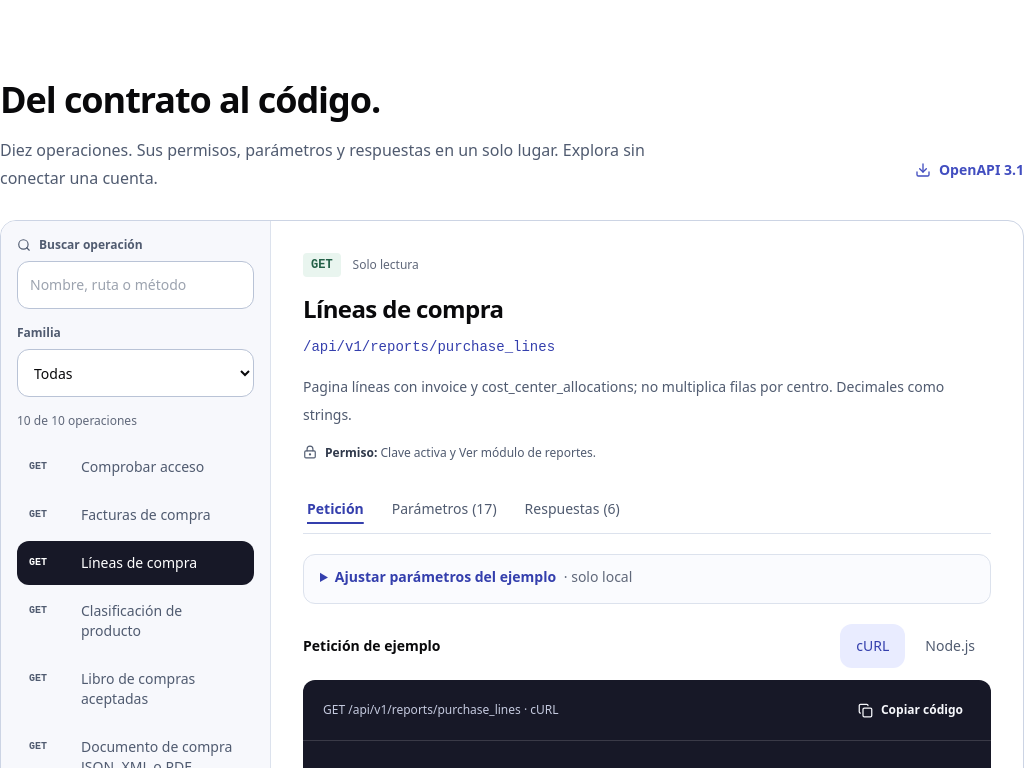
Test case: API workspace controls › shows types, defaults and accepted values for searched optional parameters
Click the button "Parámetros(17)" at (444, 509), box [388,485,501,533]
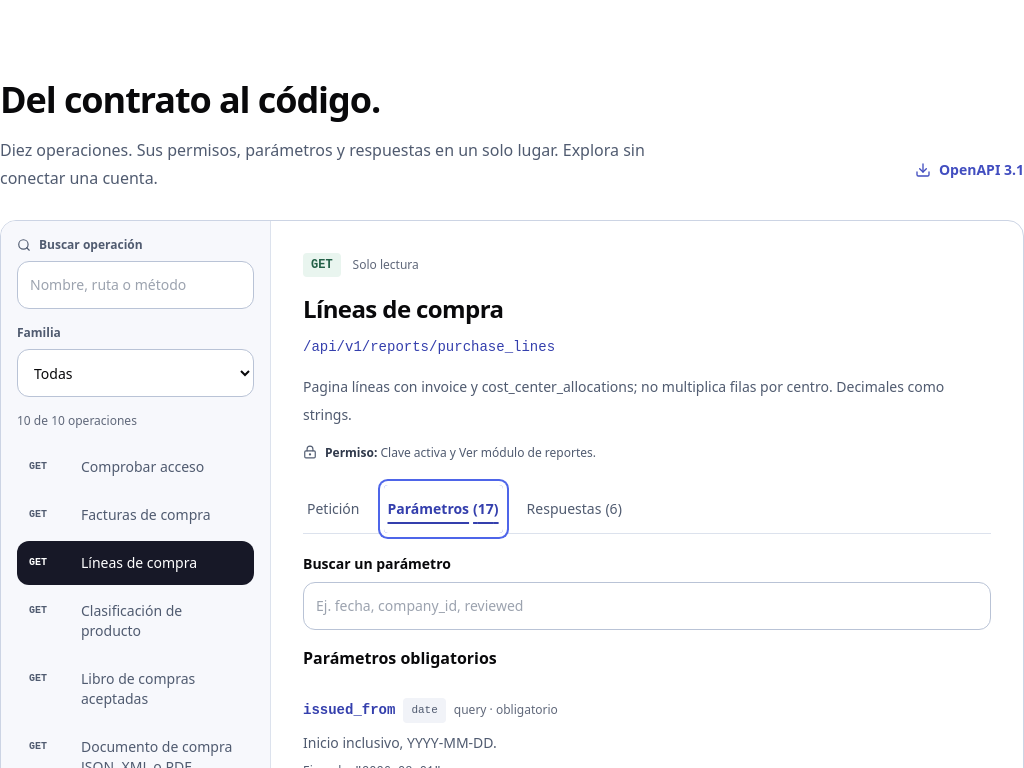
Type "reviewed" into the search field labelled "Buscar un parámetro" at (647, 606), box [303,582,991,630]
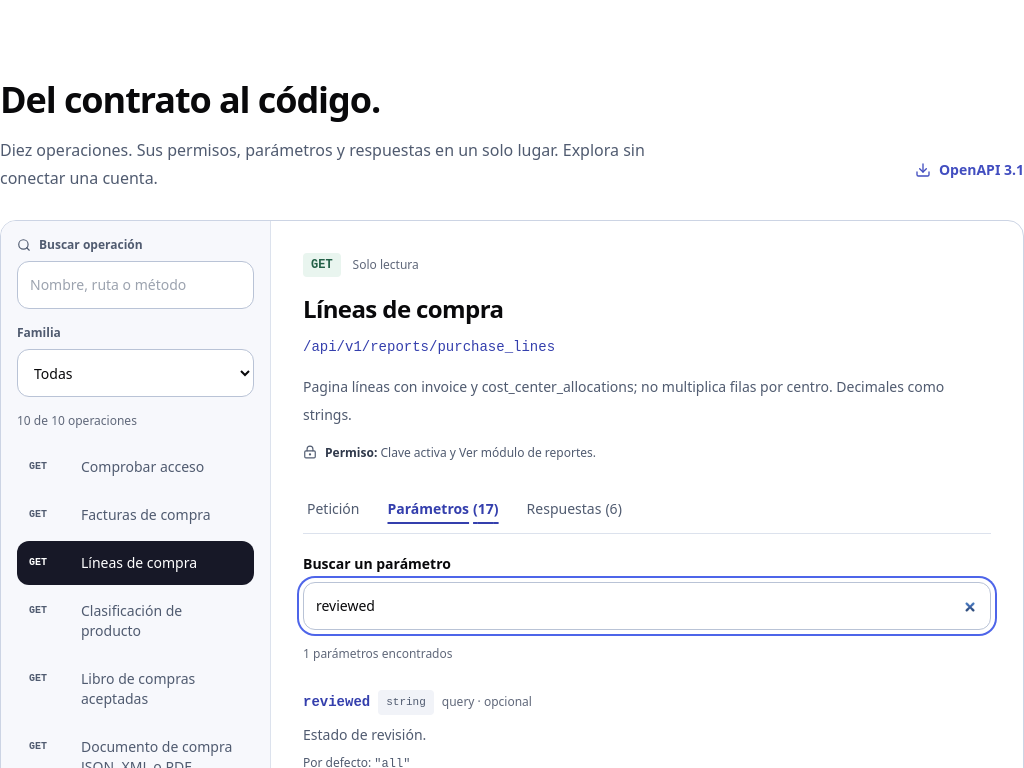
Expected: the text "1 parámetros encontrados" is shown, [303,645,452,662]
Replace the text in the search field labelled "Buscar un parámetro" with "no-existe" at (647, 606), box [303,582,991,630]
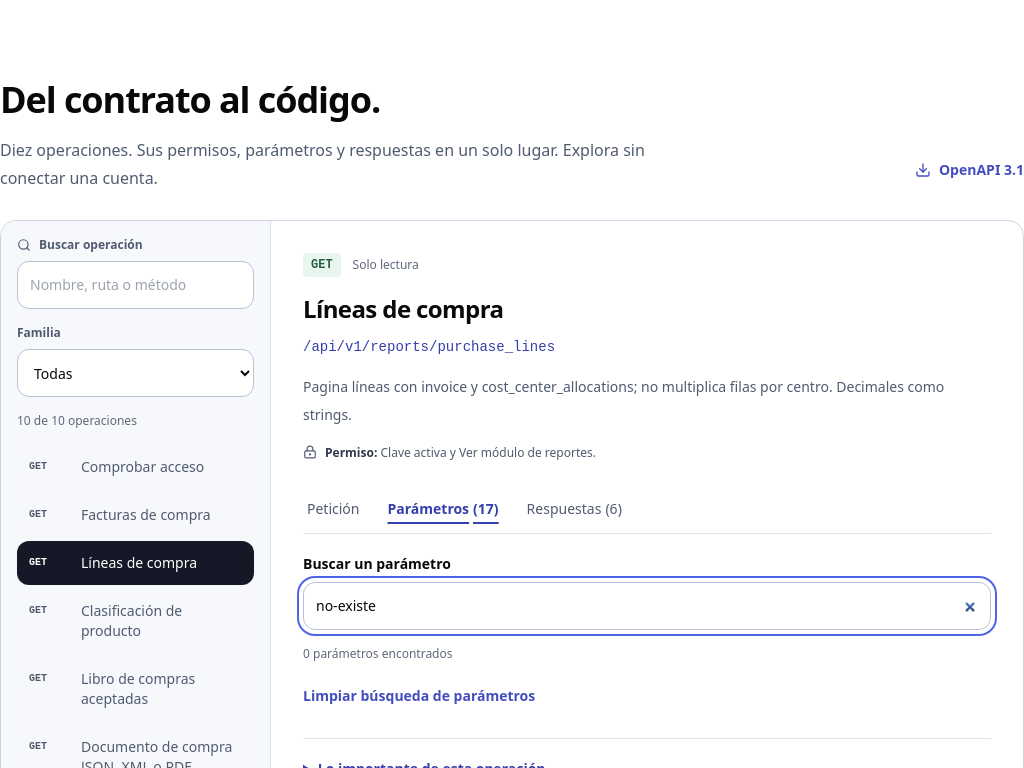
Click the button "Limpiar búsqueda de parámetros" at (419, 696), box [303,674,535,718]
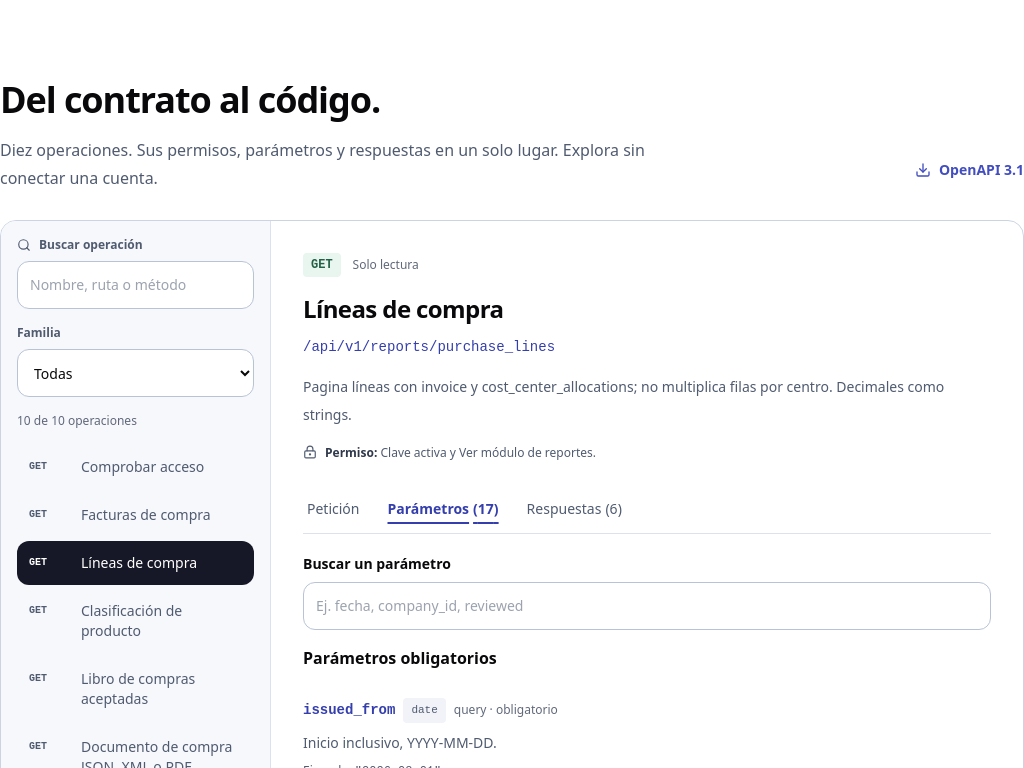
Expected: the heading "Parámetros obligatorios" is shown, [303,647,497,669]
